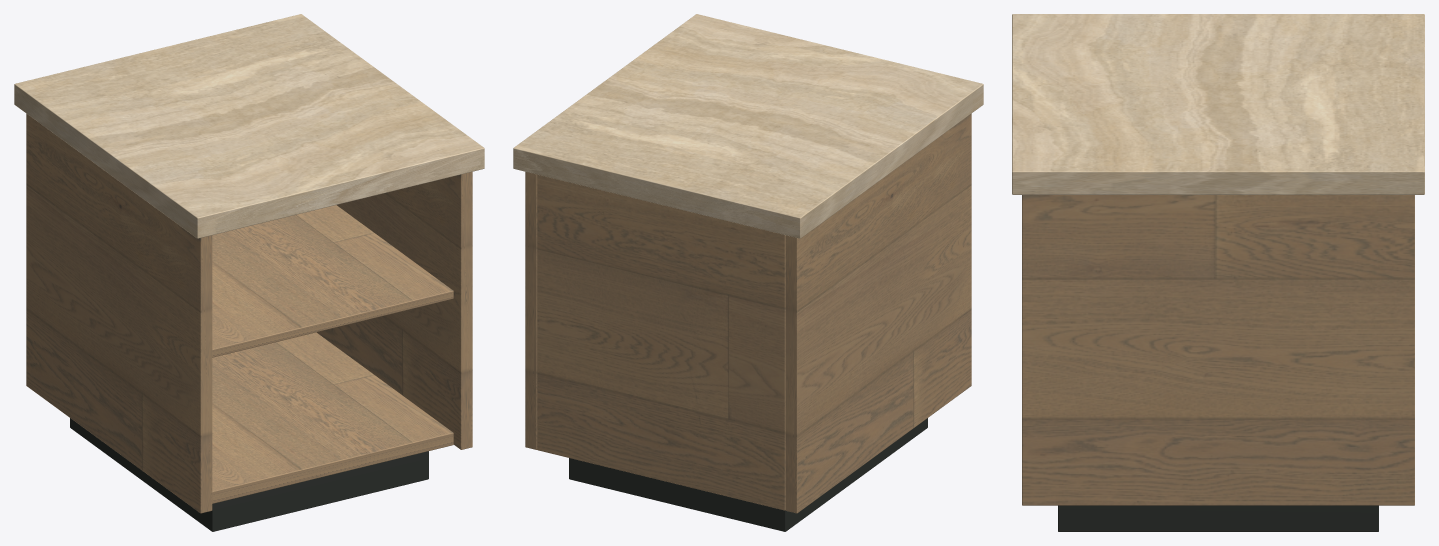
File: bedside_shell.glb
The picture shows the model from 3 angles, left to right: view 1: azimuth 30°, elevation 25°; view 2: azimuth 150°, elevation 25°; view 3: azimuth 270°, elevation 25°; orthographic projection. The views are drawn at different scales.
Visible parts, largest first — view 1: bedside_stone_top, bedside_side_-0.258, bedside_bottom, bedside_divider, bedside_side_0.258, bedside_plinth; view 2: bedside_back, bedside_stone_top, bedside_side_-0.258, bedside_plinth, bedside_side_0.258; view 3: bedside_side_0.258, bedside_stone_top, bedside_plinth.
Boxes of the visible parts, x1,y1,x2,y2 form: bedside_stone_top: (14,14,484,238); bedside_side_-0.258: (26,113,212,513); bedside_bottom: (212,332,453,503); bedside_divider: (212,205,453,357); bedside_side_0.258: (317,172,472,449); bedside_plinth: (70,418,428,531); bedside_back: (537,174,785,510); bedside_stone_top: (513,14,983,238); bedside_side_-0.258: (785,113,971,513); bedside_plinth: (569,418,927,531); bedside_side_0.258: (525,172,537,449); bedside_side_0.258: (1022,195,1414,505); bedside_stone_top: (1012,14,1424,194); bedside_plinth: (1058,505,1378,531).
Bounding box in the file's own units: 0.57 × 0.64 × 0.63.
3 materials, 2 textured.
